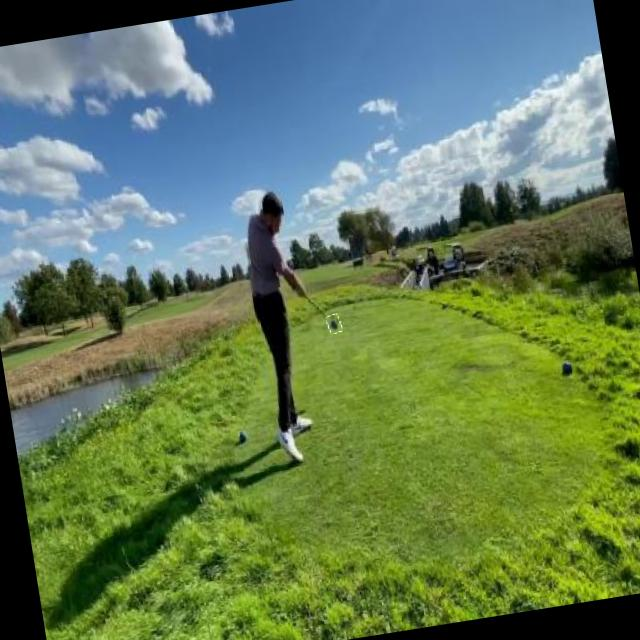club head: (326, 312, 344, 334)
